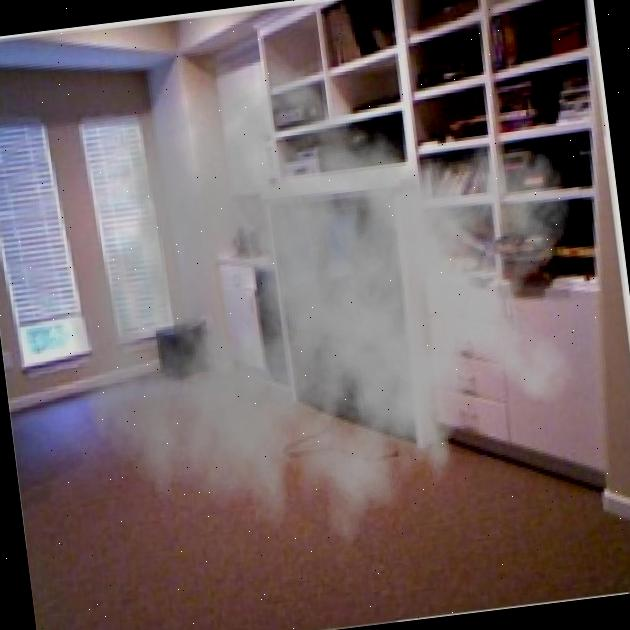smoke: (36, 0, 616, 605)
